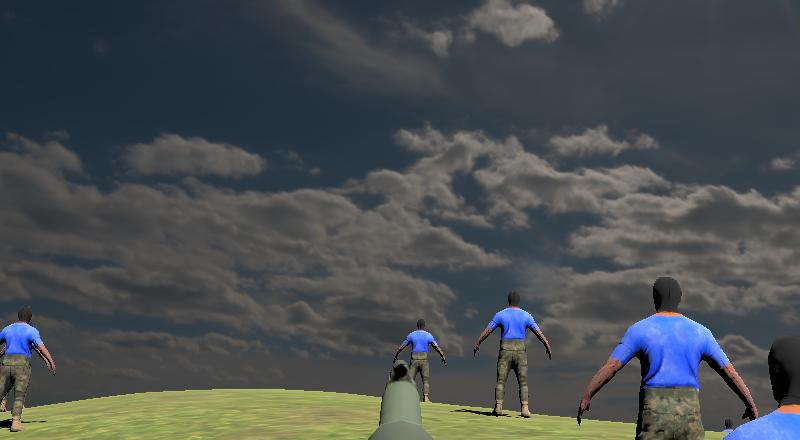Human: (575, 275, 765, 440), (694, 332, 800, 440), (473, 289, 552, 420), (0, 306, 55, 434), (392, 316, 446, 407)
